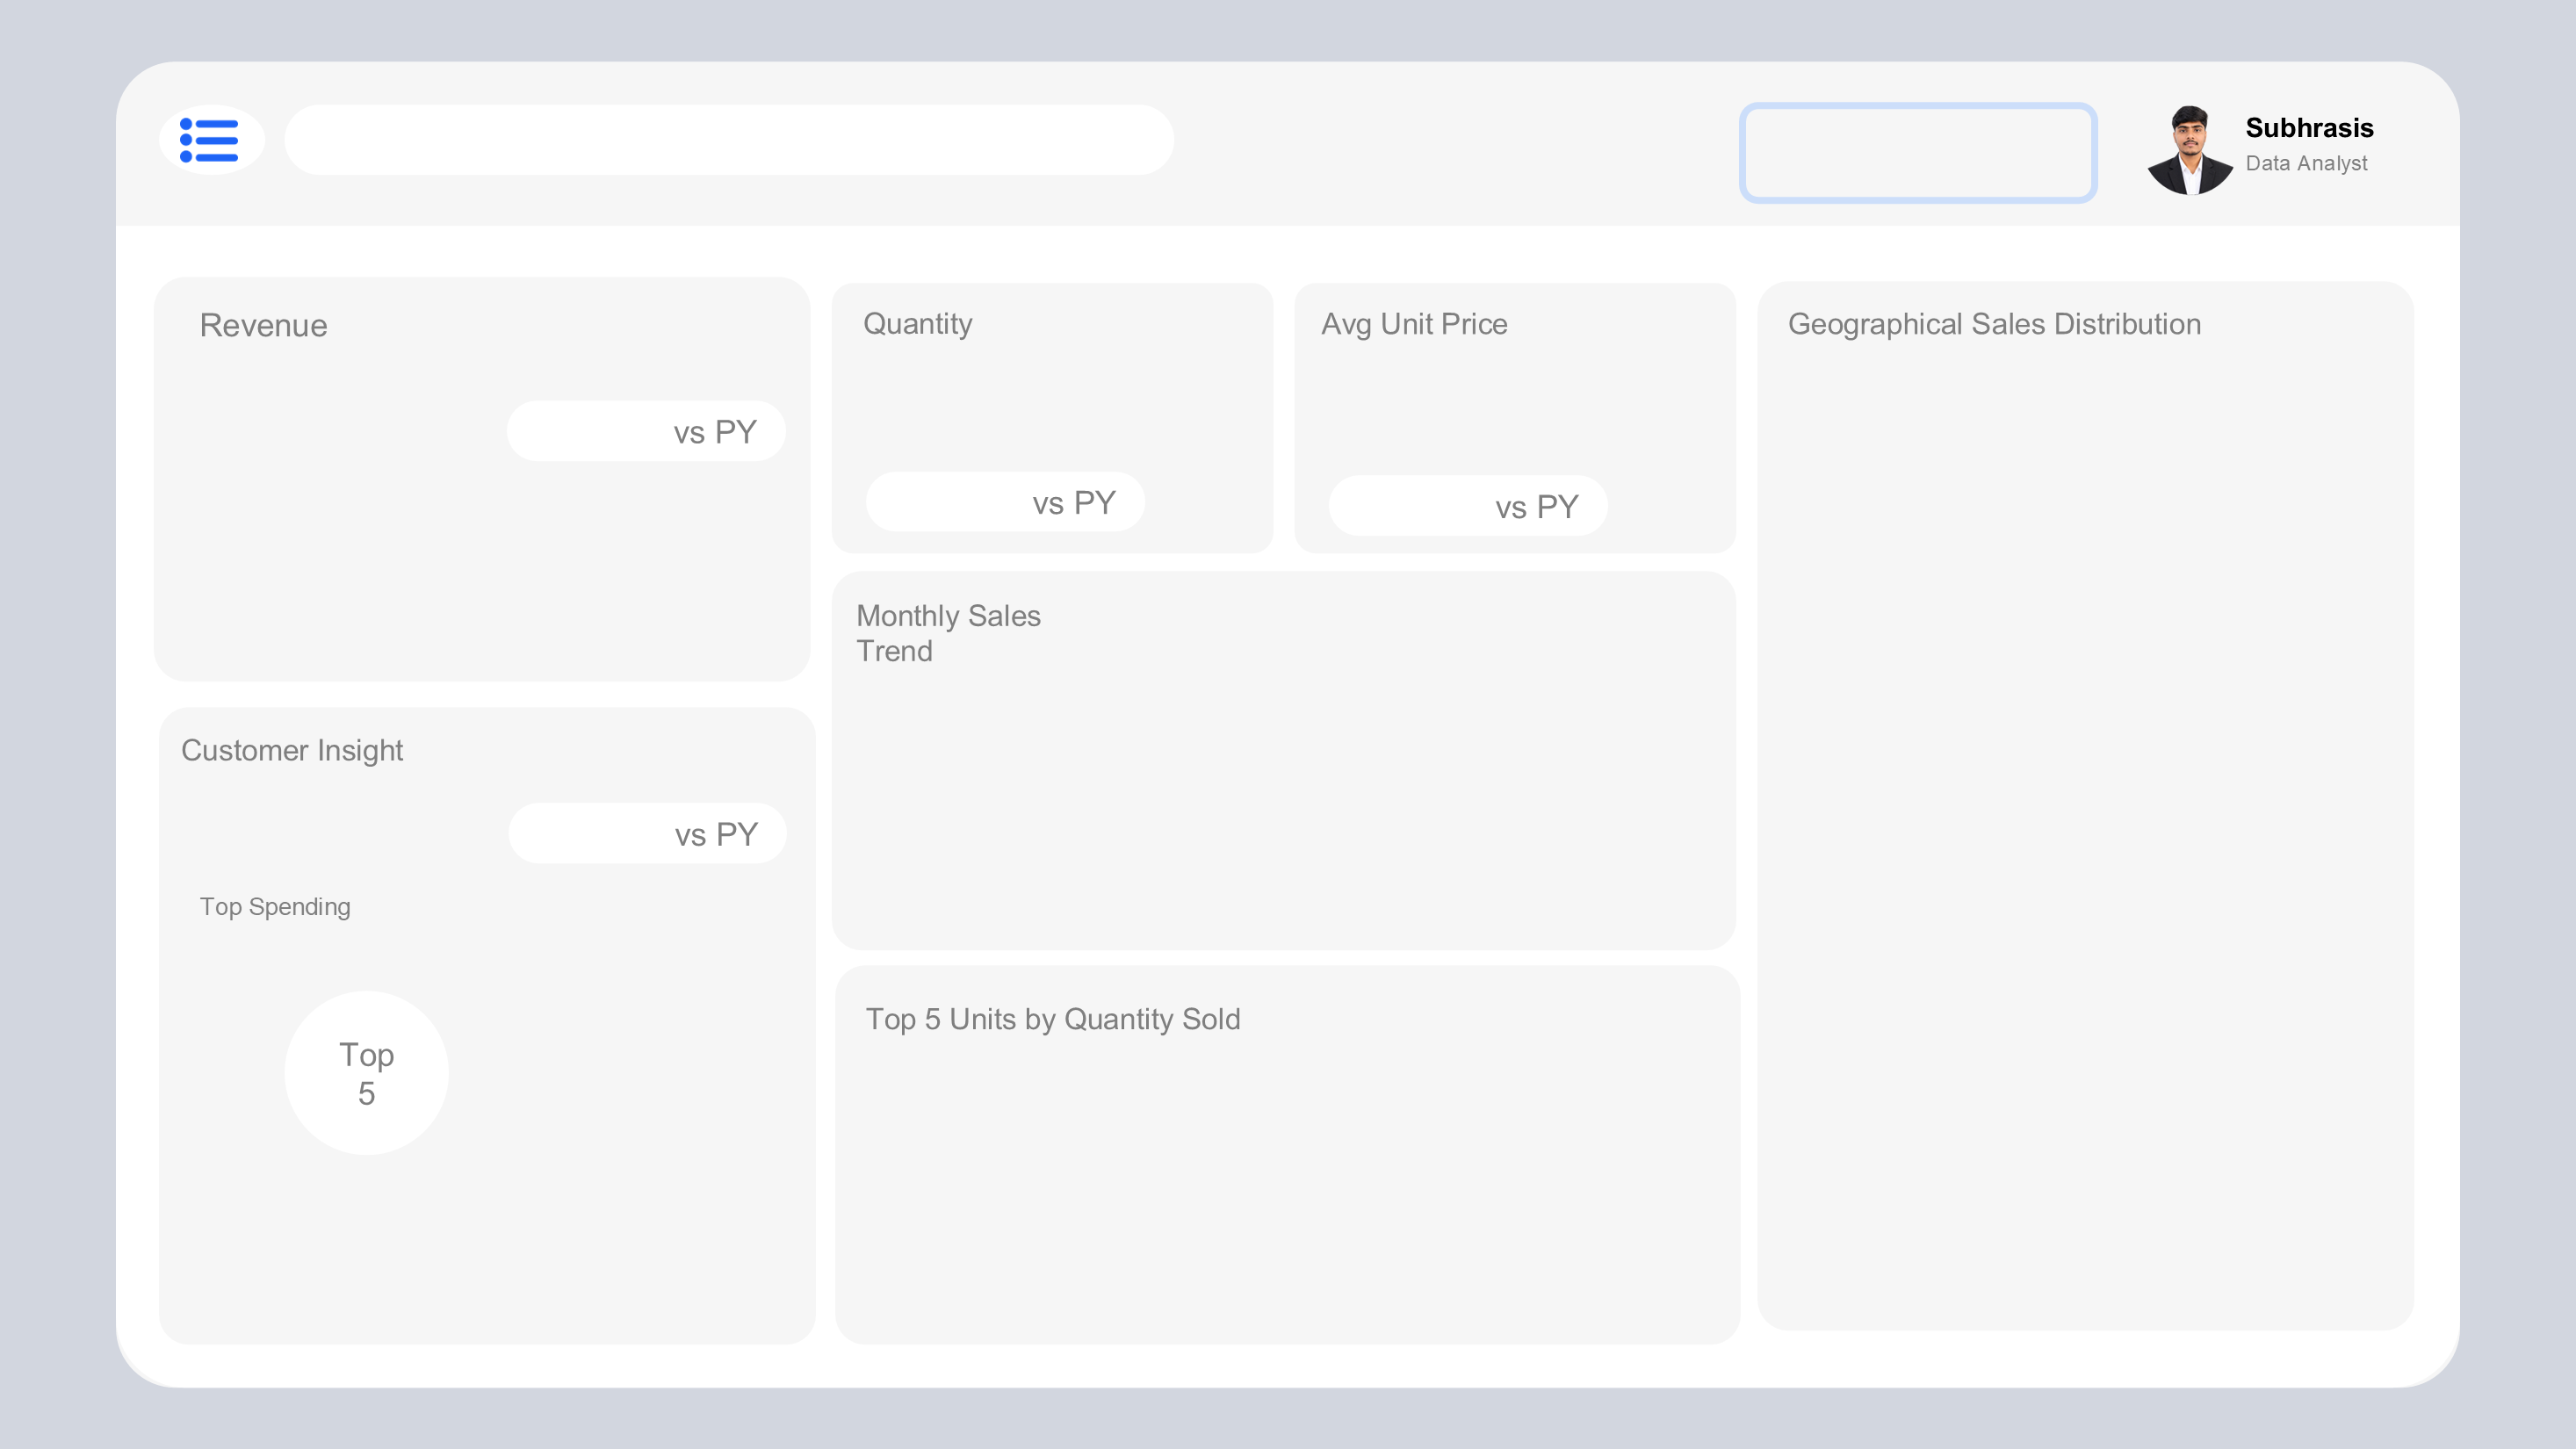

What the dashboard file says about the page in this screenshot:
{"tool":"powerbi","page":{"name":"Page 1","canvas":[1920,1080],"ordinal":0},"visuals":[{"type":"shapeMap","fields":{"Category":["item_dim.man_country"]},"box":[1310.5,279.7,485,444.4],"z":0},{"type":"card","fields":{"Values":["Dax Measures.TOTAL SALES"]},"box":[111.6,163.7,300,300],"z":1000},{"type":"card","fields":{"Values":["Dax Measures.TOTAL QTY"]},"box":[595.3,223.3,165.6,137.7],"z":2000},{"type":"card","fields":{"Values":["Dax Measures.AVG UNIT PRICE"]},"box":[960,223.3,165.6,137.7],"z":3000},{"type":"card","fields":{"Values":["Dax Measures.CUSTOMERS"]},"box":[124.7,539.5,165.6,137.7],"z":4000},{"type":"card","fields":{"Values":["Dax Measures.% YOY SALES"]},"box":[313.5,282,254.9,78.9],"z":5000},{"type":"card","fields":{"Values":["Dax Measures.% YOY QTY"]},"box":[595.5,338.4,234.6,74.4],"z":6000},{"type":"card","fields":{"Values":["Dax Measures.% YOY PRICE"]},"box":[940.6,338.4,234.6,74.4],"z":7000},{"type":"card","fields":{"Values":["Dax Measures.% YOY CUSTOMERS"]},"box":[342.9,588.7,200.8,69.9],"z":8000},{"type":"slicer","fields":{"Values":["time_dim.year"]},"box":[1310.5,88,243.6,60.9],"z":9000},{"type":"columnChart","fields":{"Category":["time_dim.month"],"Y":["Dax Measures.TOTAL SALES"]},"box":[110.5,324.8,485,263.9],"z":10000},{"type":"lineChart","fields":{"Category":["time_dim.month"],"Y":["Dax Measures.TOTAL QTY"]},"box":[712.8,245.9,272.9,115],"z":11000},{"type":"lineChart","fields":{"Category":["time_dim.month"],"Y":["Dax Measures.AVG UNIT PRICE"]},"box":[1105.3,225.6,227.8,115],"z":12000},{"type":"areaChart","fields":{"Category":["time_dim.month"],"Y":["Dax Measures.CUSTOMERS"]},"box":[92.5,861.7,539.1,148.9],"z":13000},{"type":"donutChart","fields":{"Category":["customer_dim.name"],"Y":["Dax Measures.TOTAL SALES"]},"box":[146.7,657.8,322.2,277.8],"z":13001},{"type":"lineChart","fields":{"Category":["time_dim.month"],"Y":["Dax Measures.TOTAL SALES"]},"box":[611.3,491.7,681.2,212],"z":13002},{"type":"barChart","fields":{"Category":["fact_table.unit"],"Y":["Dax Measures.TOTAL QTY"]},"box":[632.3,750.4,677.3,261.4],"z":13003},{"type":"barChart","fields":{"Category":["item_dim.man_country"],"Y":["Dax Measures.TOTAL SALES"]},"box":[1309.6,750.4,486.2,252.9],"z":13004}]}

Visuals, with their boxes in screenshot pixels (x1, y1, x2, y2), scaled from the page's 1920x1080 canvas onto the 2576x1449 screenshot:
shapeMap - item_dim.man_country: select_region(1758, 375, 2409, 971)
card - Dax Measures.TOTAL SALES: select_region(149, 220, 552, 622)
card - Dax Measures.TOTAL QTY: select_region(798, 299, 1021, 485)
card - Dax Measures.AVG UNIT PRICE: select_region(1288, 299, 1510, 485)
card - Dax Measures.CUSTOMERS: select_region(167, 724, 389, 909)
card - Dax Measures.% YOY SALES: select_region(421, 378, 762, 484)
card - Dax Measures.% YOY QTY: select_region(799, 454, 1114, 554)
card - Dax Measures.% YOY PRICE: select_region(1262, 454, 1577, 554)
card - Dax Measures.% YOY CUSTOMERS: select_region(460, 789, 730, 883)
slicer - time_dim.year: select_region(1758, 118, 2085, 199)
columnChart - time_dim.month x Dax Measures.TOTAL SALES: select_region(148, 436, 799, 789)
lineChart - time_dim.month x Dax Measures.TOTAL QTY: select_region(956, 330, 1323, 484)
lineChart - time_dim.month x Dax Measures.AVG UNIT PRICE: select_region(1483, 303, 1788, 457)
areaChart - time_dim.month x Dax Measures.CUSTOMERS: select_region(124, 1156, 848, 1356)
donutChart - customer_dim.name x Dax Measures.TOTAL SALES: select_region(197, 883, 629, 1255)
lineChart - time_dim.month x Dax Measures.TOTAL SALES: select_region(820, 660, 1734, 944)
barChart - fact_table.unit x Dax Measures.TOTAL QTY: select_region(848, 1006, 1757, 1358)
barChart - item_dim.man_country x Dax Measures.TOTAL SALES: select_region(1757, 1006, 2409, 1346)
